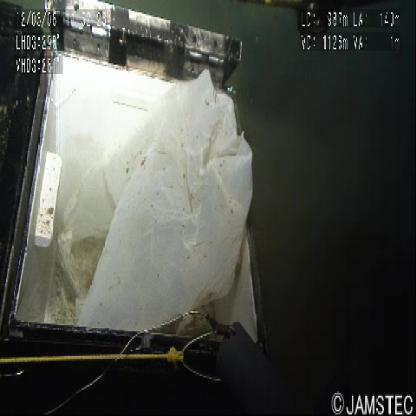Rác: (60, 66, 266, 336)
